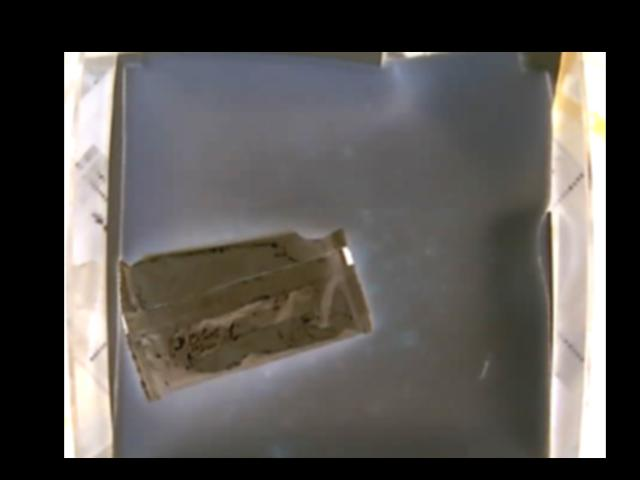Medicine: (110, 227, 370, 398)
